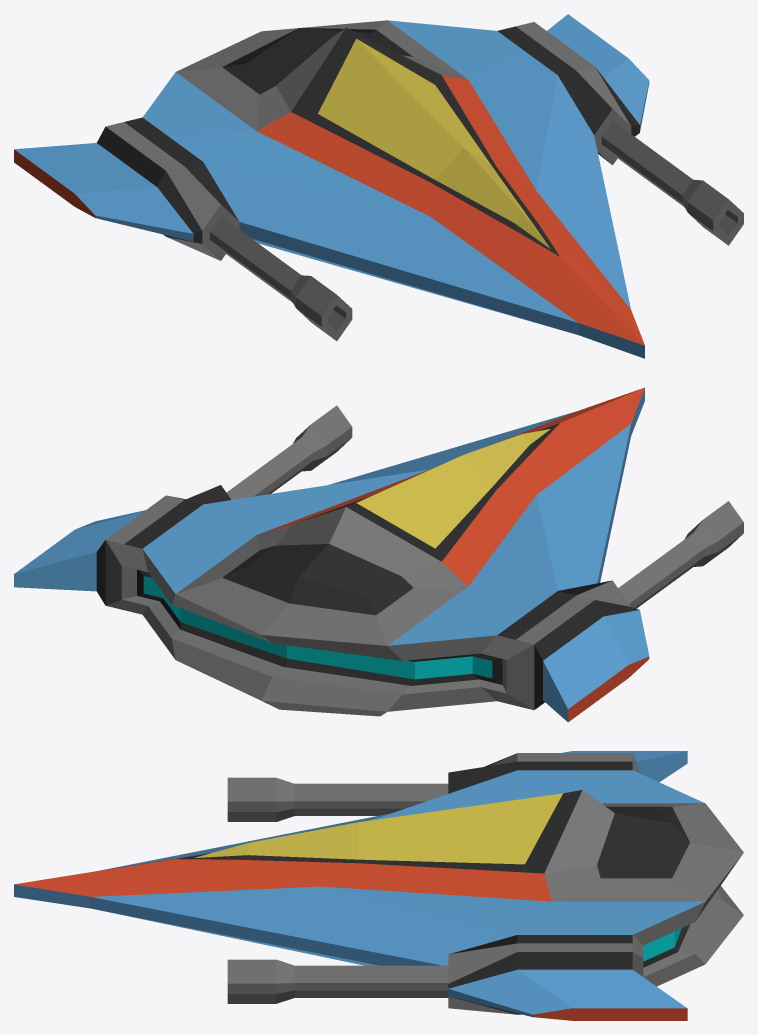
Rendered from star ship.fbx.
3 renders of one model, top to bottom at view 1: azimuth 30°, elevation 25°; view 2: azimuth 150°, elevation 25°; view 3: azimuth 270°, elevation 25°, orthographic. The views are drawn at different scales.
Parts seen in each view (by area): view 1: Cube; view 2: Cube; view 3: Cube.
Part boxes in pixels (x1,y1,x2,y2): Cube: [14, 14, 743, 358]; Cube: [14, 387, 743, 722]; Cube: [14, 751, 743, 1020].
Size of the model in its own units: 792 by 210 by 950.
